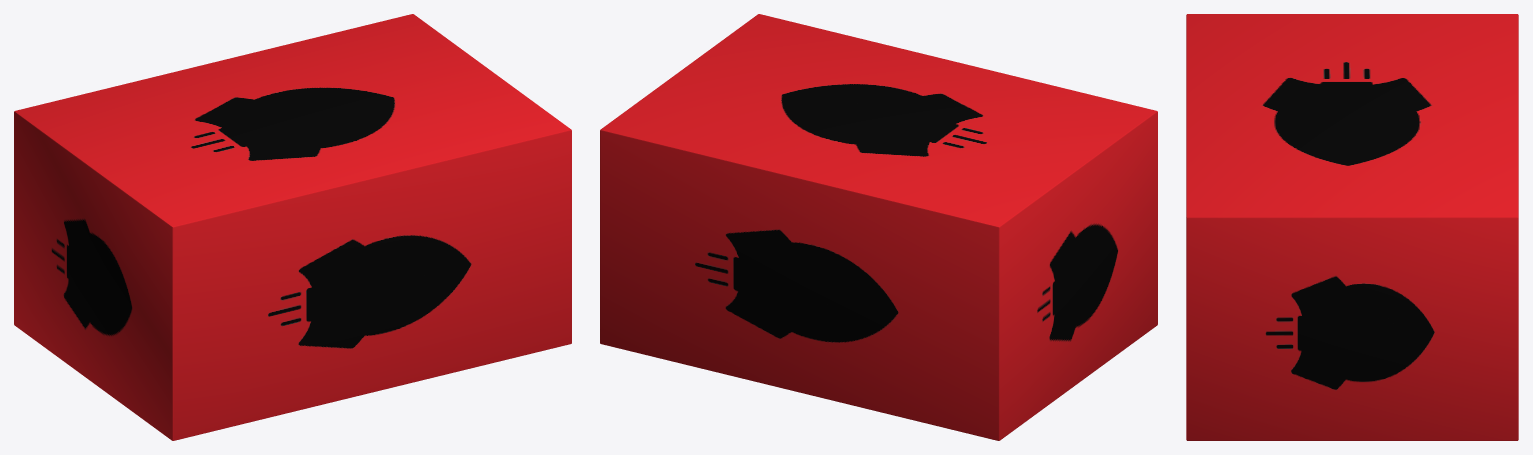
Rendered from Rocket_shots_exported.FBX.
The picture shows the model from 3 angles, left to right: view 1: azimuth 30°, elevation 25°; view 2: azimuth 150°, elevation 25°; view 3: azimuth 270°, elevation 25°; orthographic projection. The views are drawn at different scales.
Visible parts, largest first — view 1: Box001; view 2: Box001; view 3: Box001.
Boxes of the visible parts, x1,y1,x2,y2 form: Box001: [14, 14, 571, 440]; Box001: [600, 14, 1157, 440]; Box001: [1186, 14, 1518, 440].
Size of the model in its own units: 29.91 by 15.33 by 20.6.
1 material, 1 textured.
